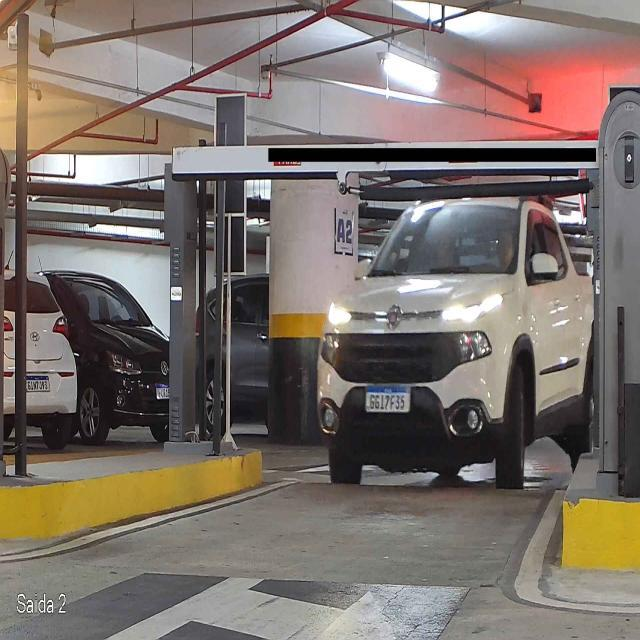mercosul_plate: (363, 384, 413, 415)
